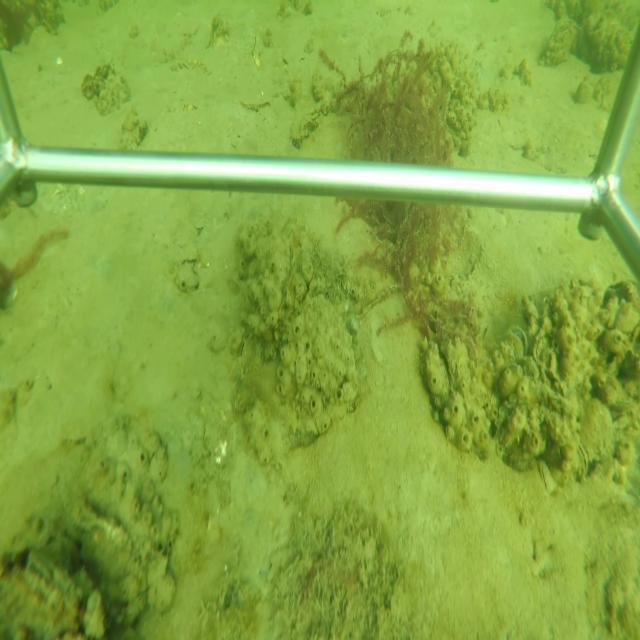Oyster-Indeterminate: (279, 295, 360, 434)
